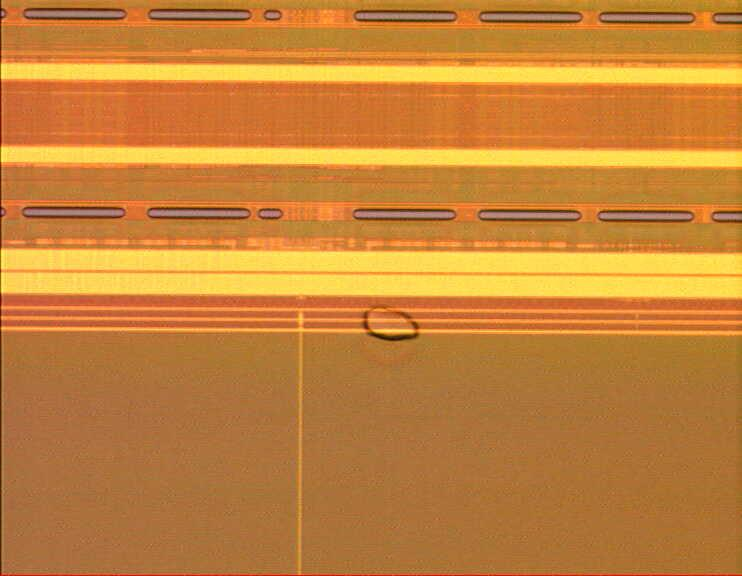PIQ PARTICLE: (358, 300, 426, 348)
